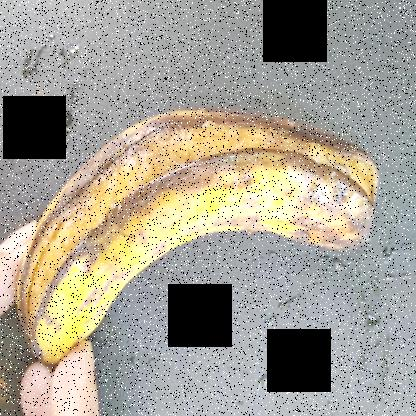rotten: (12, 89, 388, 379)
